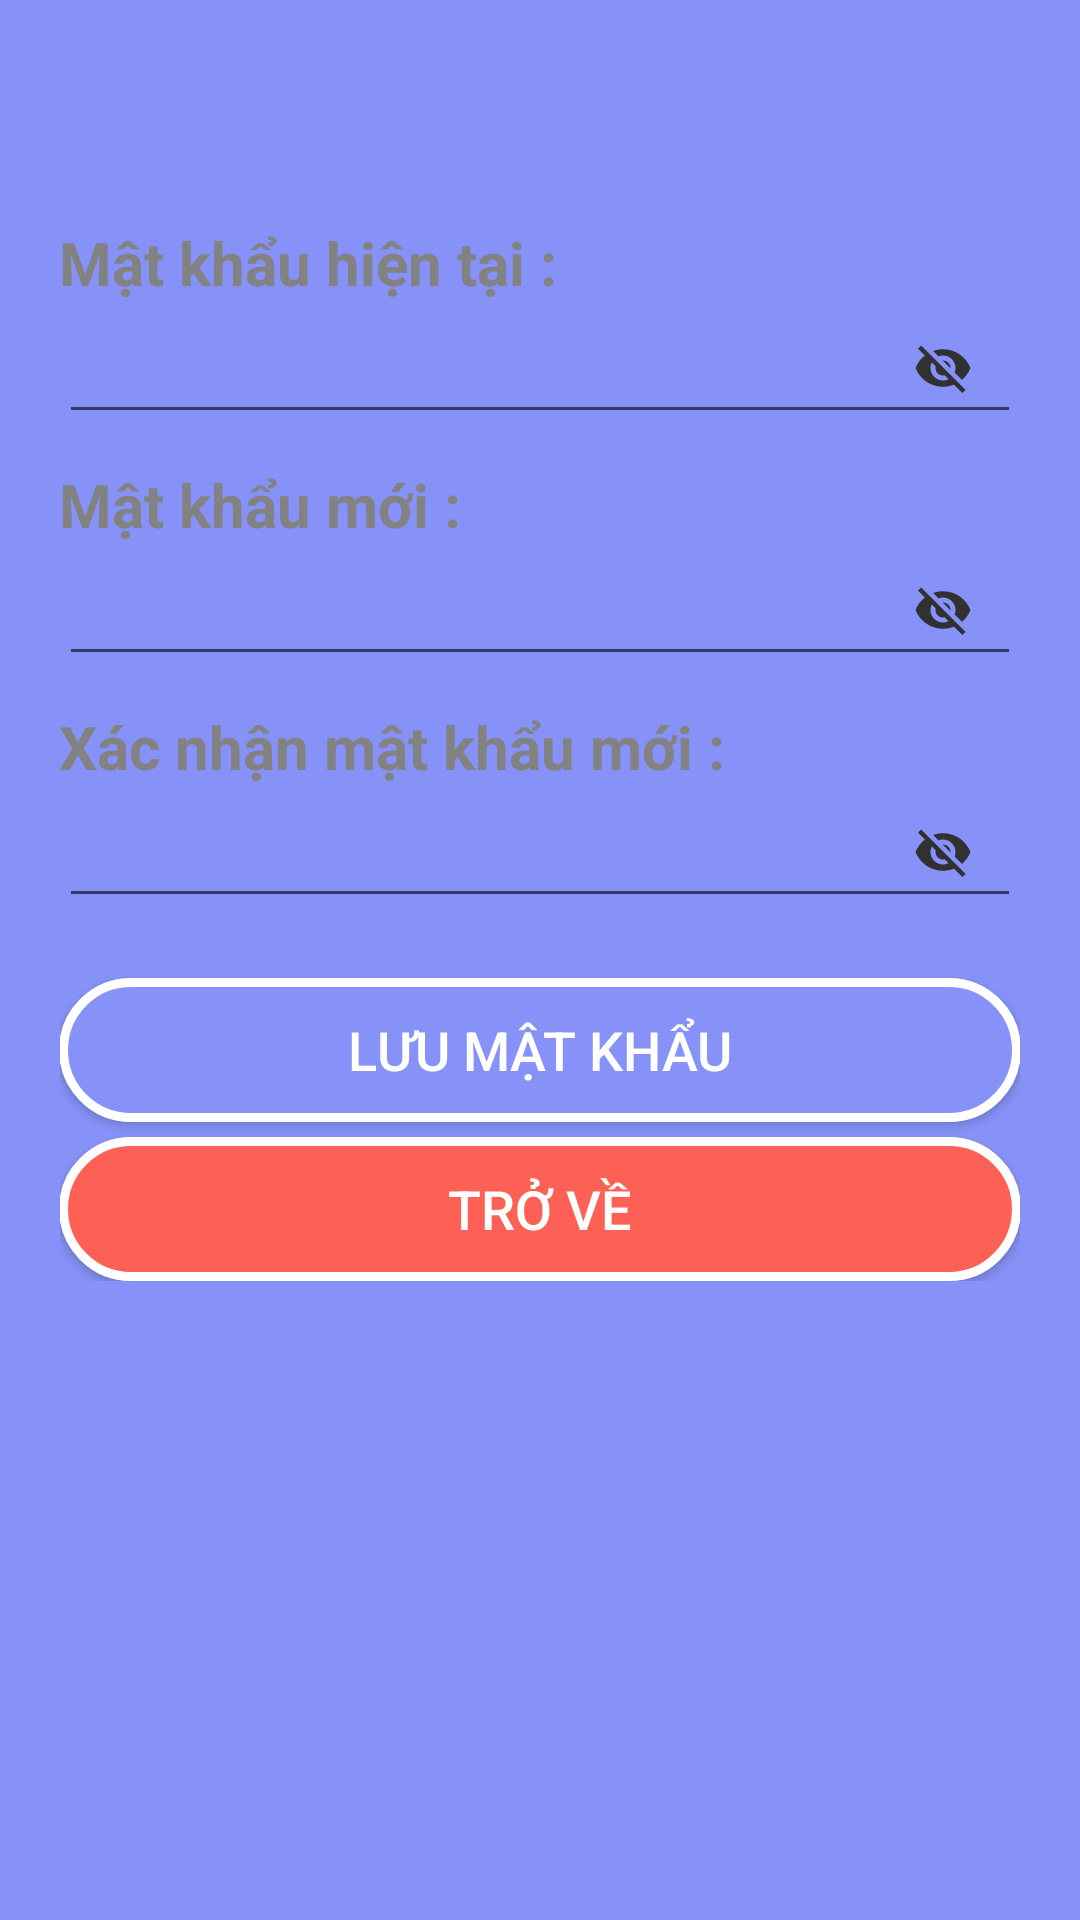

Named icons in this screenshot (1080 x 1920) and their bounding boxes, [x1, y1, x2, y2]:
visibility off: [915, 345, 971, 393], [915, 587, 971, 635], [915, 829, 971, 877]
